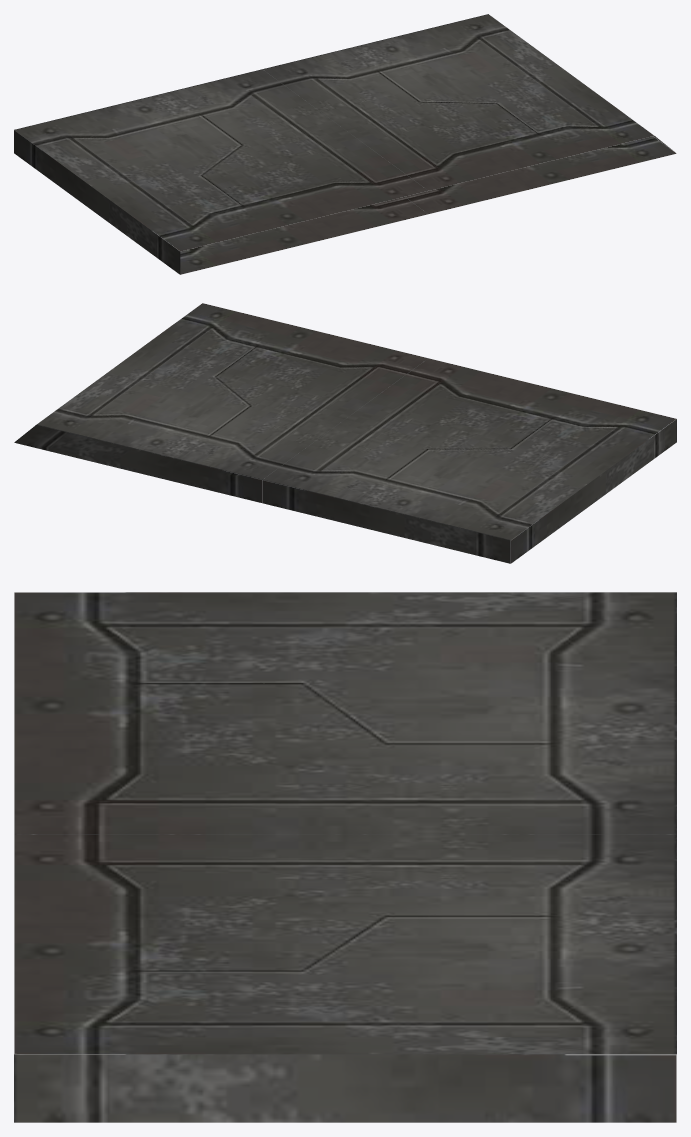
The model's file is SM_wall_003.fbx.
3 views of the same model, one above another, from view 1: azimuth 30°, elevation 25°; view 2: azimuth 150°, elevation 25°; view 3: azimuth 270°, elevation 25° (orthographic). The views are drawn at different scales.
Parts seen in each view (by area): view 1: SM_wall_003; view 2: SM_wall_003; view 3: SM_wall_003.
Part boxes in pixels (box(x1,y1,x2,y2)): SM_wall_003: box(14, 14, 676, 274); SM_wall_003: box(14, 303, 676, 563); SM_wall_003: box(14, 592, 676, 1122).
Bounding box in the file's own units: 10 × 0.45 × 5.79.
